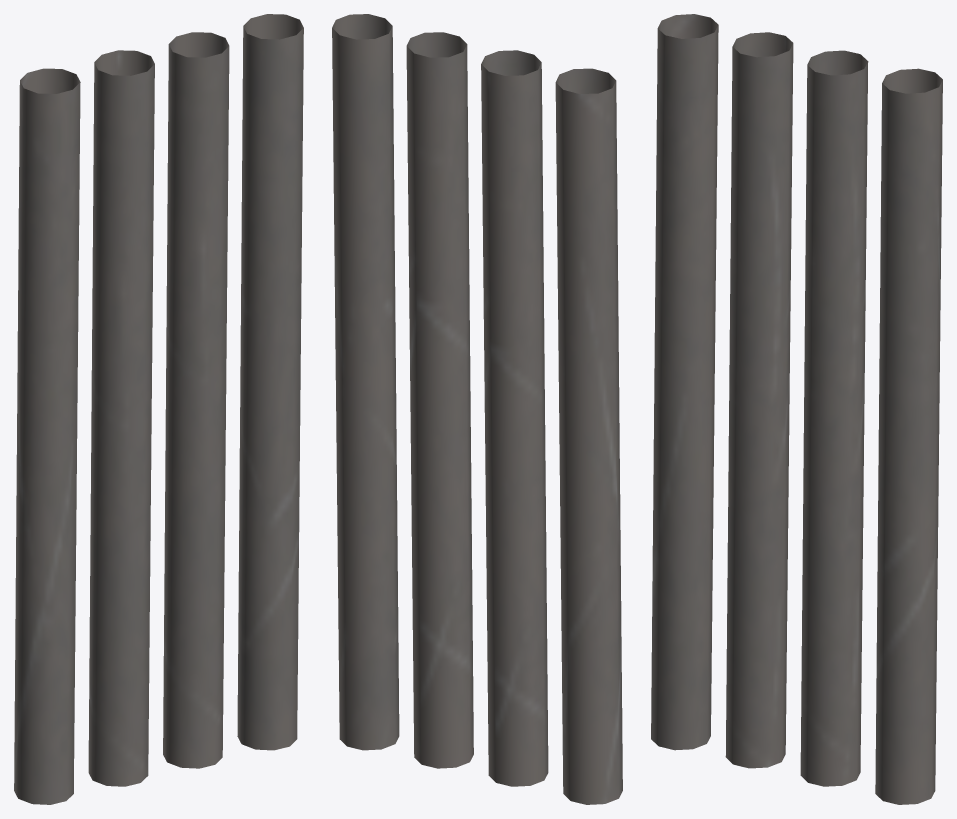
File: Pfb_Soda_ExhaustSystem1__3.fbx
3 views of the same model, side by side, from view 1: azimuth 30°, elevation 25°; view 2: azimuth 150°, elevation 25°; view 3: azimuth 330°, elevation 25° (orthographic).
Visible parts, largest first — view 1: MAT_Soda_Pipe 2; view 2: MAT_Soda_Pipe 2; view 3: MAT_Soda_Pipe 2.
Part boxes in pixels (bbox=[...]): MAT_Soda_Pipe 2: bbox=[14, 14, 303, 804]; MAT_Soda_Pipe 2: bbox=[332, 14, 622, 804]; MAT_Soda_Pipe 2: bbox=[651, 14, 942, 804].
Size of the model in its own units: 0.489 by 1.17 by 0.0885.
1 material, 1 textured.
